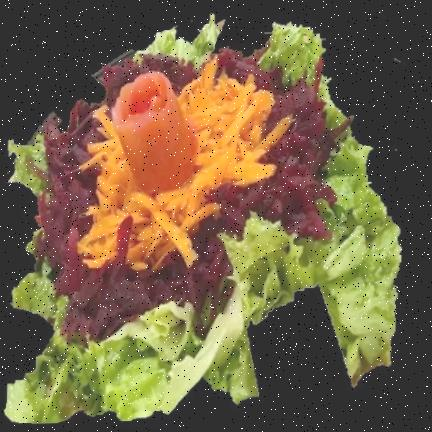beet: (35, 50, 350, 340)
carrot: (79, 58, 275, 271)
salad: (6, 131, 400, 423)
tomato: (112, 71, 196, 193)
